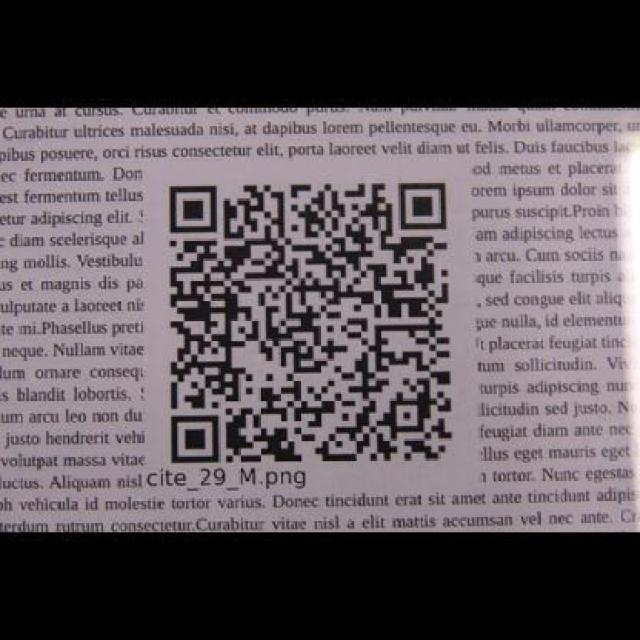QRCode: (160, 173, 462, 467)
